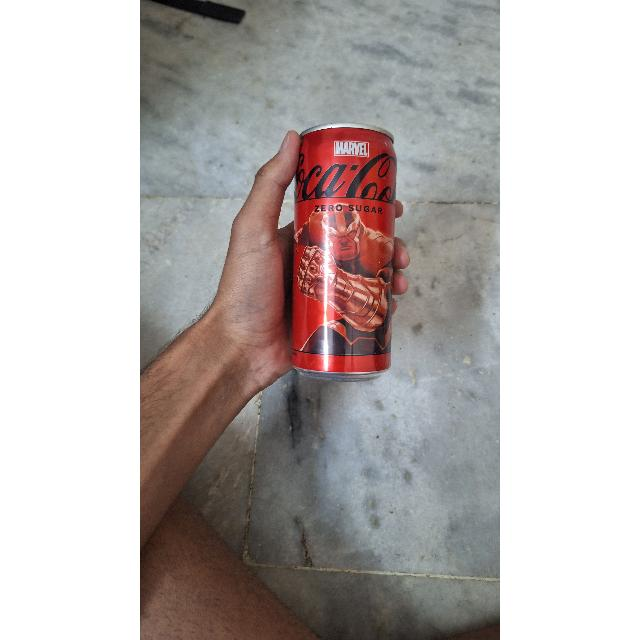Coca Cola Zero: (287, 129, 399, 379)
